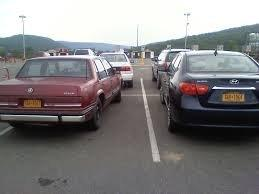Liscence Plate: (221, 92, 245, 102), (19, 98, 44, 107)
